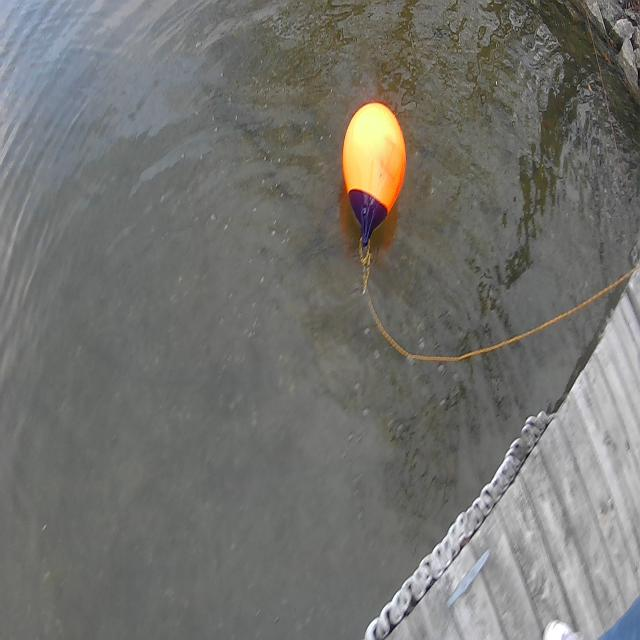Buoy: (340, 93, 412, 260)
